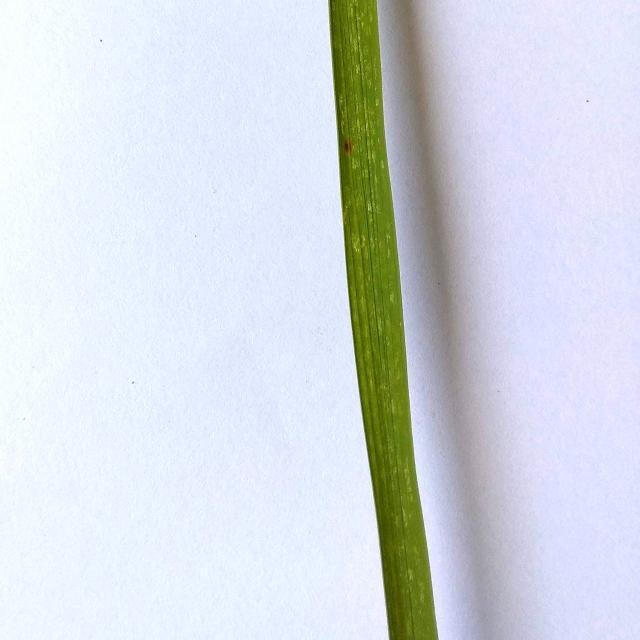brownspots: (335, 136, 358, 158)
